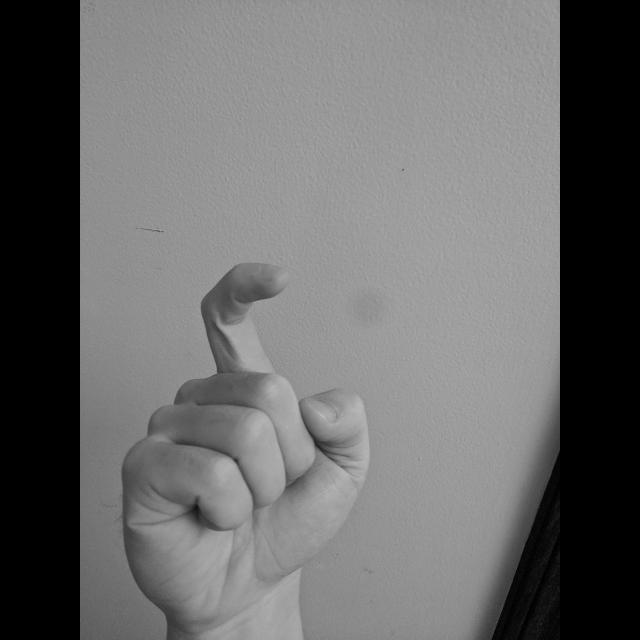X: (117, 258, 375, 622)
